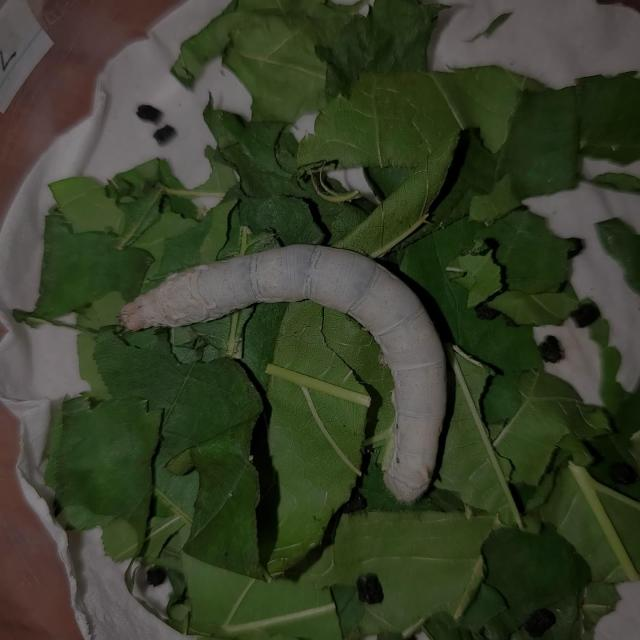Healthy: (92, 205, 503, 538)
